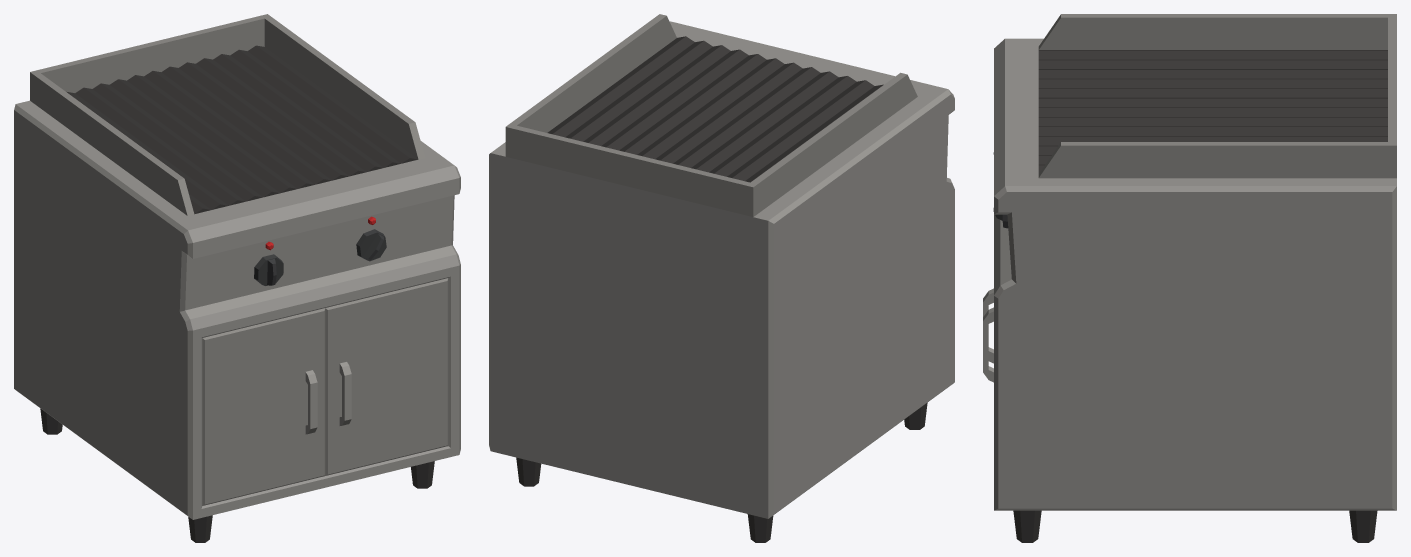
The model's file is SM_Props_Interior_Shop_Restaurant_Kitchen_Grill.fbx.
3 renders of one model, left to right at view 1: azimuth 30°, elevation 25°; view 2: azimuth 150°, elevation 25°; view 3: azimuth 270°, elevation 25°, orthographic. The views are drawn at different scales.
Parts seen in each view (by area): view 1: SM_Props_Interior_Shop_Restaurant_Kitchen_Grill; view 2: SM_Props_Interior_Shop_Restaurant_Kitchen_Grill; view 3: SM_Props_Interior_Shop_Restaurant_Kitchen_Grill.
Boxes of the visible parts, x1,y1,x2,y2 form: SM_Props_Interior_Shop_Restaurant_Kitchen_Grill: [14, 14, 460, 542]; SM_Props_Interior_Shop_Restaurant_Kitchen_Grill: [489, 14, 954, 542]; SM_Props_Interior_Shop_Restaurant_Kitchen_Grill: [983, 14, 1396, 542].
Size of the model in its own units: 80 by 98 by 92.43.
